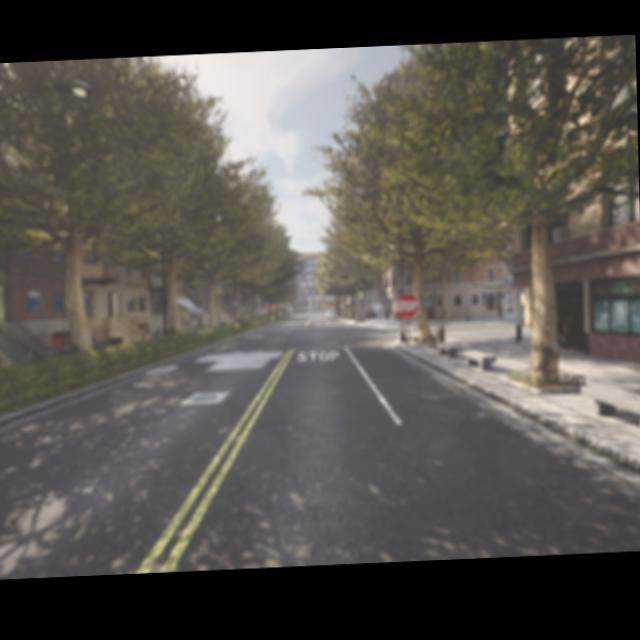stop sign: (392, 286, 422, 343), (393, 289, 421, 321)
